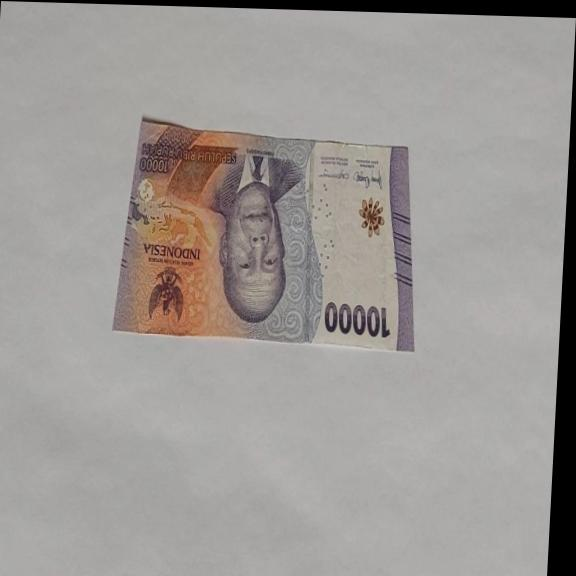Kertas: (110, 117, 425, 354), (322, 300, 392, 340)
